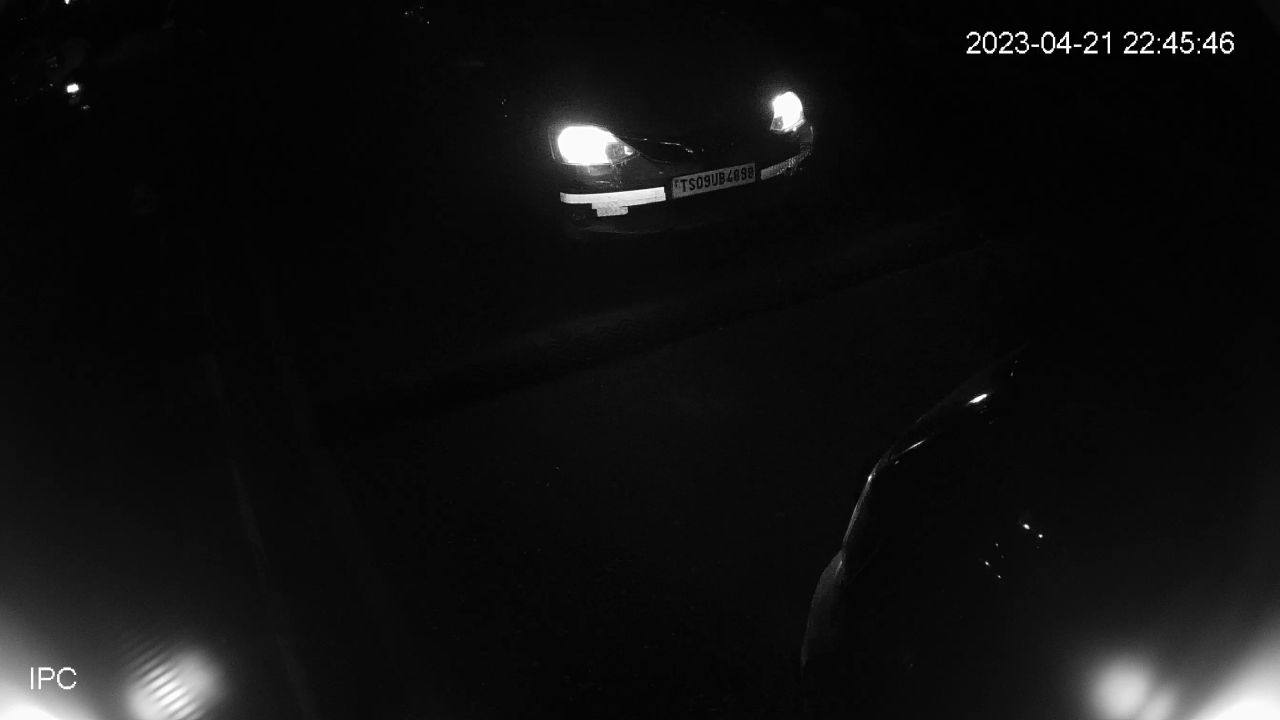license_plate: (665, 156, 760, 210)
